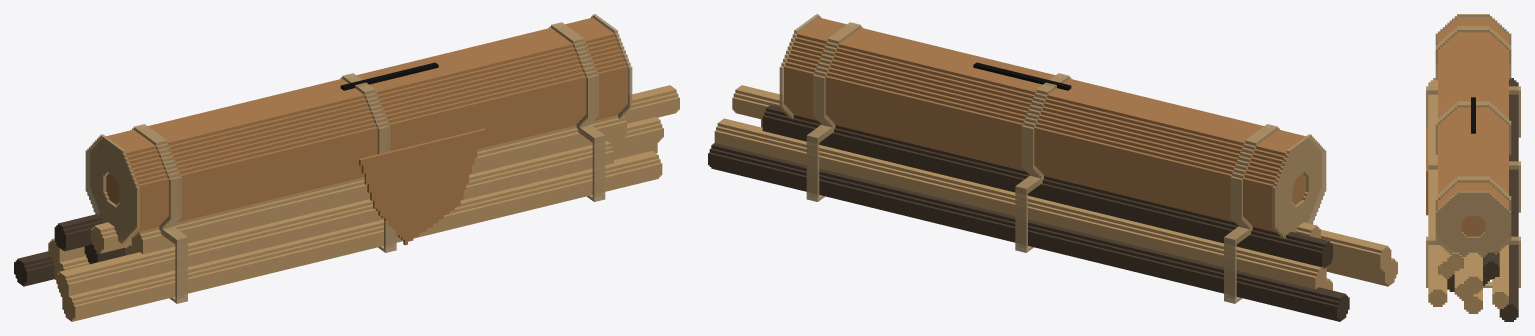
The model's file is damaged_shelter_kit.glb.
The picture shows the model from 3 angles, left to right: view 1: azimuth 30°, elevation 25°; view 2: azimuth 150°, elevation 25°; view 3: azimuth 270°, elevation 25°; orthographic projection. The views are drawn at different scales.
Parts seen in each view (by area): view 1: damaged_shelter_kit:compound; view 2: damaged_shelter_kit:compound; view 3: damaged_shelter_kit:compound.
Boxes of the visible parts, x1,y1,x2,y2 form: damaged_shelter_kit:compound: (14,14,679,321); damaged_shelter_kit:compound: (708,14,1397,321); damaged_shelter_kit:compound: (1426,14,1520,321).
Bounding box in the file's own units: 0.904 × 0.2 × 0.16.
